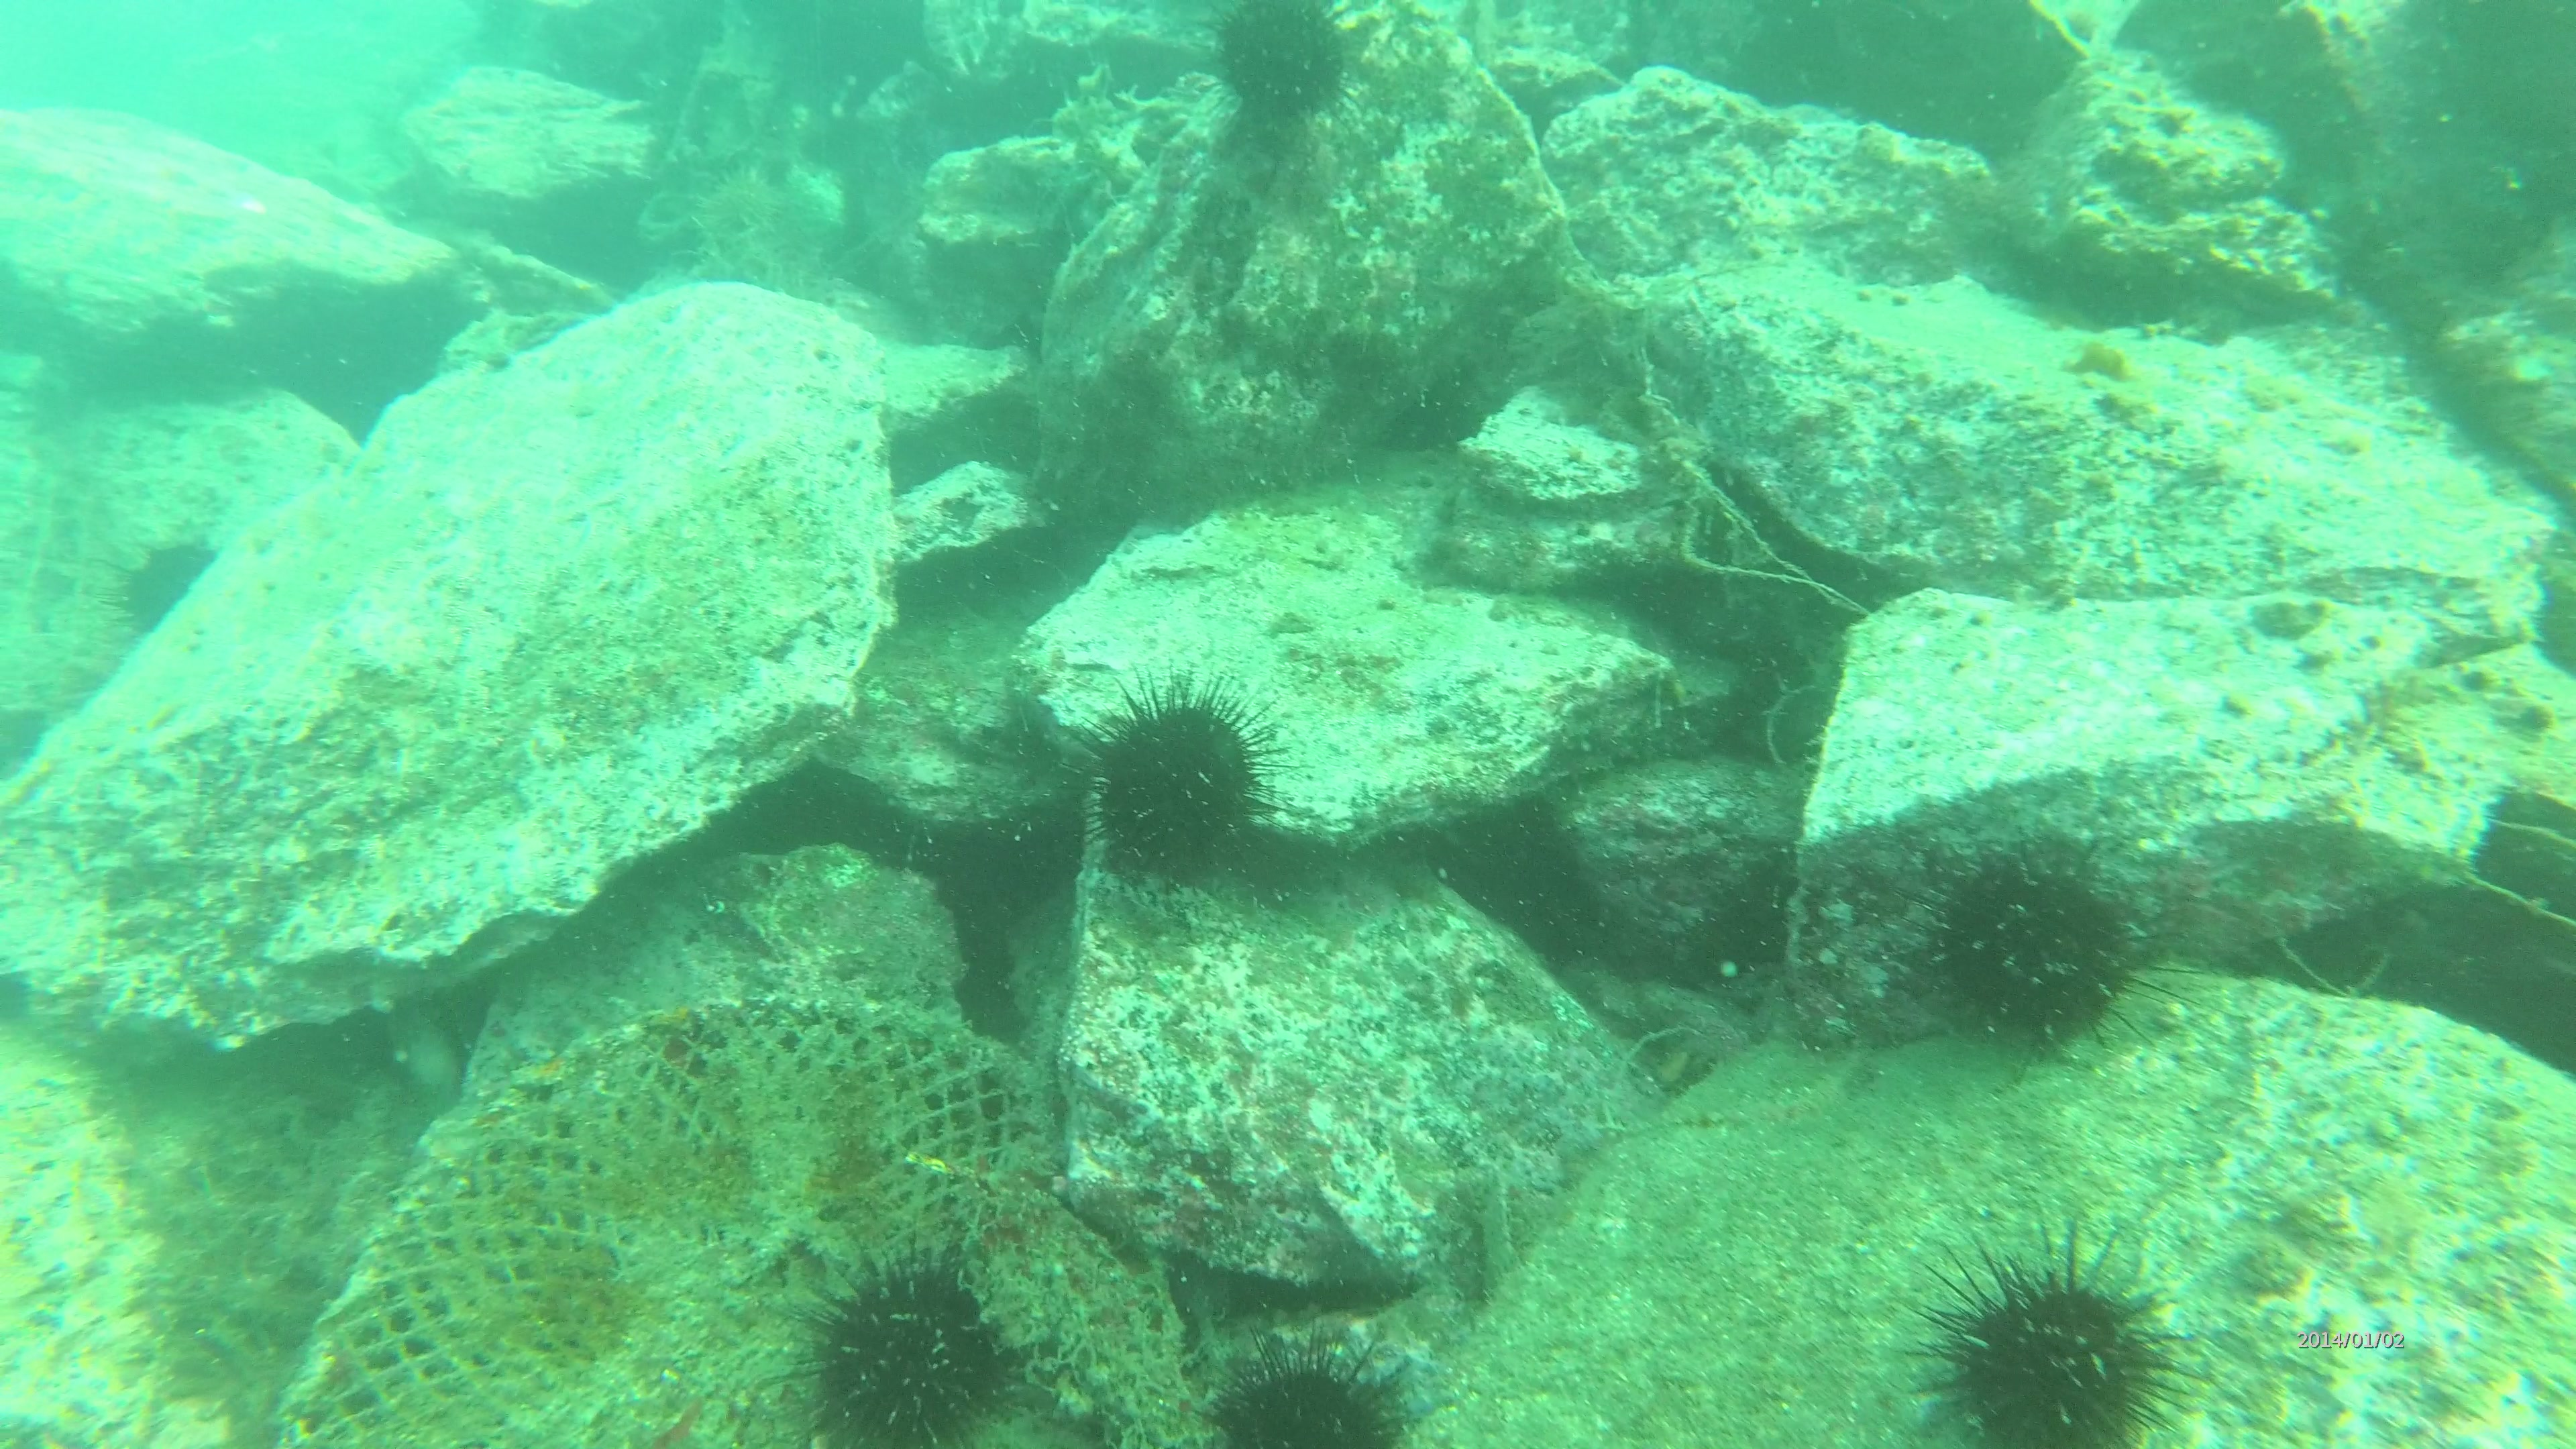echinus: (1888, 1221, 2240, 1449), (1897, 839, 2181, 1069), (775, 1244, 1047, 1449), (1067, 672, 1288, 904), (1198, 1329, 1428, 1449), (1201, 7, 1361, 124), (120, 538, 228, 633)
